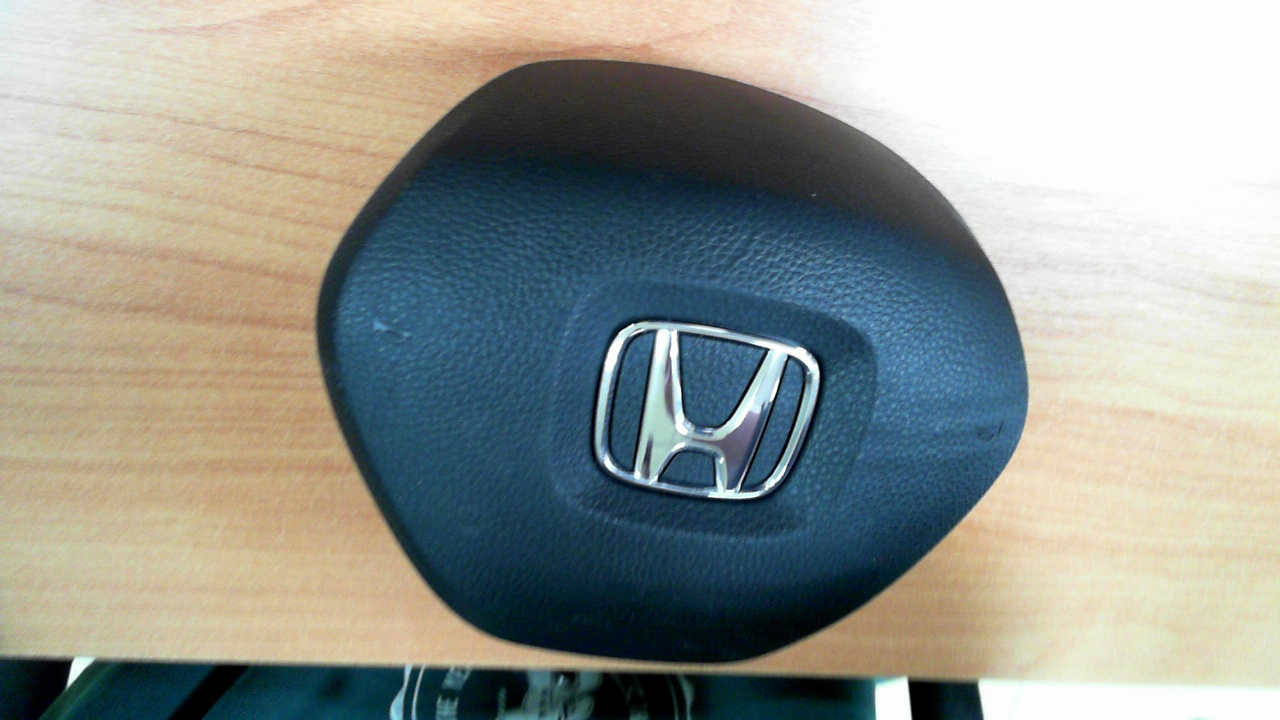Airbag: (316, 58, 1030, 667)
Honda: (593, 320, 821, 500)
